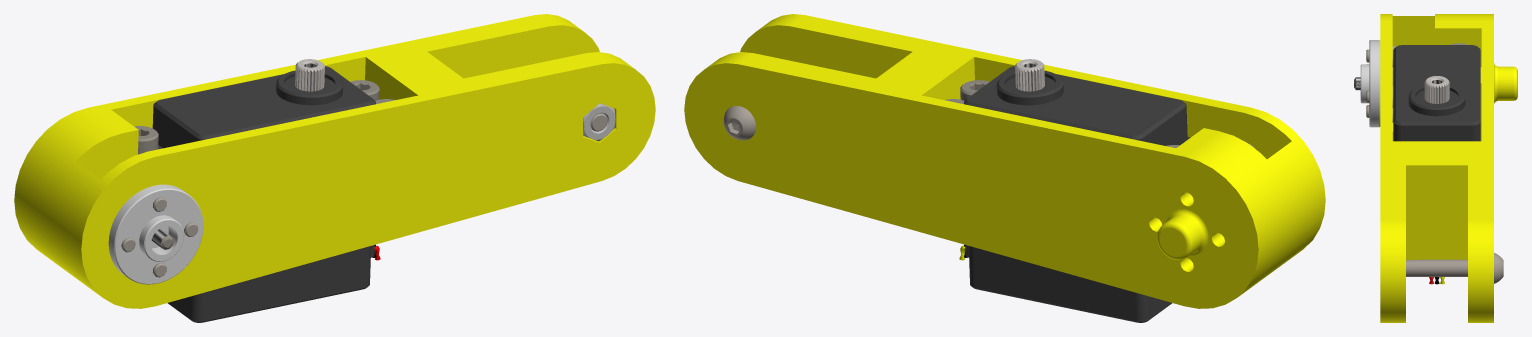
3 views of the same model, side by side, from view 1: azimuth 30°, elevation 25°; view 2: azimuth 150°, elevation 25°; view 3: azimuth 270°, elevation 25° (orthographic). The views are drawn at different scales.
Visible parts, largest first — view 1: mesh 8 Boss-Extrude3, mesh 1 R2 joint-1/CLS6336HV-1, mesh 11 Fillet2, mesh 12 Chamfer1, mesh 9 Sweep1 face, mesh 2 Boss-Extrude5, mesh 10 Fillet1; view 2: mesh 8 Boss-Extrude3, mesh 1 R2 joint-1/CLS6336HV-1, mesh 9 Sweep1 face, mesh 2 Boss-Extrude5; view 3: mesh 8 Boss-Extrude3, mesh 1 R2 joint-1/CLS6336HV-1, mesh 9 Sweep1 face, mesh 11 Fillet2, mesh 2 Boss-Extrude5.
Part boxes in pixels (box(x1,y1,x2,y2)): mesh 8 Boss-Extrude3: box(14, 14, 655, 308); mesh 1 R2 joint-1/CLS6336HV-1: box(152, 66, 375, 322); mesh 11 Fillet2: box(108, 184, 203, 284); mesh 12 Chamfer1: box(134, 80, 395, 249); mesh 9 Sweep1 face: box(121, 113, 607, 277); mesh 2 Boss-Extrude5: box(295, 59, 324, 91); mesh 10 Fillet1: box(583, 103, 615, 141); mesh 8 Boss-Extrude3: box(684, 14, 1325, 308); mesh 1 R2 joint-1/CLS6336HV-1: box(964, 66, 1190, 322); mesh 9 Sweep1 face: box(723, 106, 1254, 148); mesh 2 Boss-Extrude5: box(1015, 59, 1044, 91); mesh 8 Boss-Extrude3: box(1380, 14, 1517, 322); mesh 1 R2 joint-1/CLS6336HV-1: box(1393, 45, 1480, 141); mesh 9 Sweep1 face: box(1366, 45, 1503, 283); mesh 11 Fillet2: box(1360, 40, 1380, 127); mesh 2 Boss-Extrude5: box(1424, 76, 1449, 103).
Size of the model in its own units: 0.1285 by 0.0459 by 0.0375.
12 materials, 1 textured.
